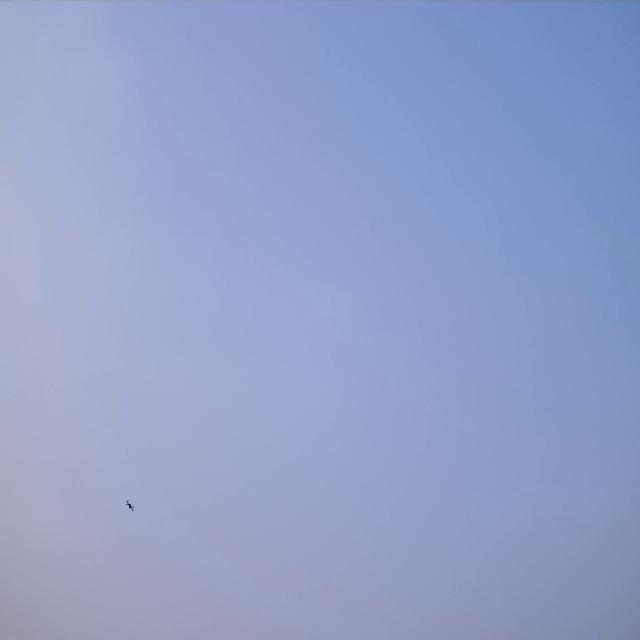UAV: (125, 499, 135, 514)
